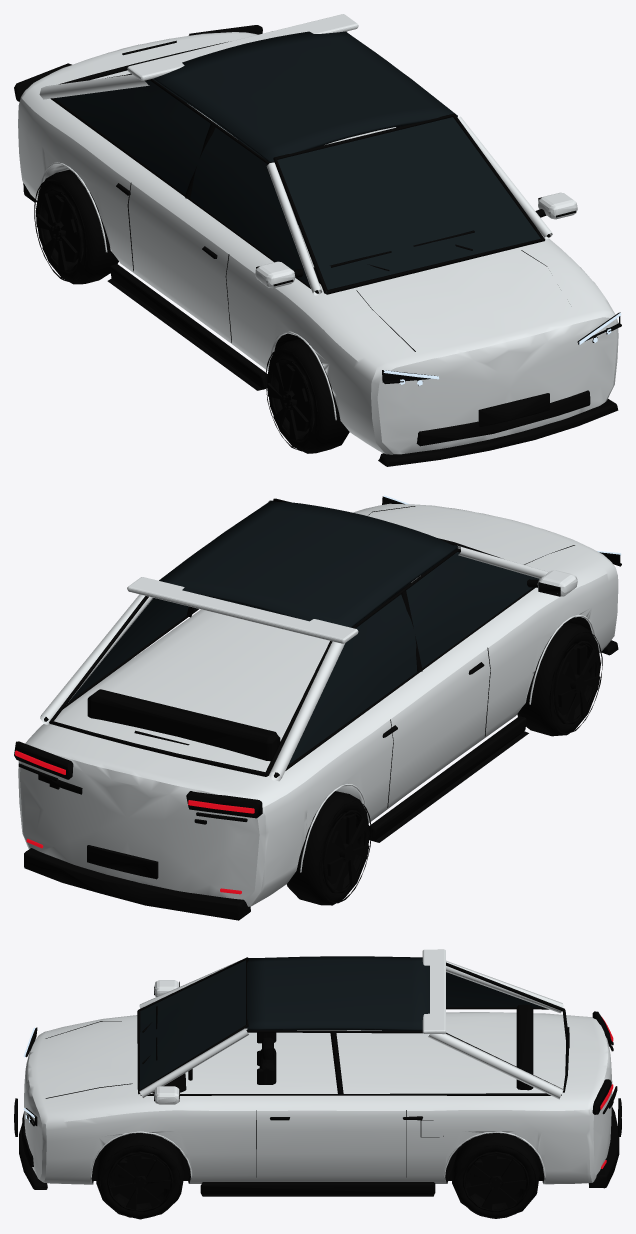
File: model-y-mid.glb
3 views of the same model, one above another, from view 1: azimuth 30°, elevation 25°; view 2: azimuth 150°, elevation 25°; view 3: azimuth 270°, elevation 25° (orthographic). The views are drawn at different scales.
Parts seen in each view (by area): view 1: chassis.001__Automotive clearcoat, chassis.001__Solar glass, chassis.001__Vehicle detail atlas, wheel_RL.001__Vehicle detail atlas, wheel_FL.001__Vehicle detail atlas; view 2: chassis.001__Automotive clearcoat, chassis.001__Solar glass, chassis.001__Vehicle detail atlas, wheel_RL.001__Vehicle detail atlas, wheel_FL.001__Vehicle detail atlas, chassis.001__Red LED optics; view 3: chassis.001__Automotive clearcoat, chassis.001__Solar glass, chassis.001__Vehicle detail atlas, wheel_FR.001__Vehicle detail atlas, wheel_RR.001__Vehicle detail atlas.
Part boxes in pixels (x1=…): chassis.001__Automotive clearcoat: x1=18, y1=14, x2=618, y2=454; chassis.001__Solar glass: x1=55, y1=31, x2=540, y2=292; chassis.001__Vehicle detail atlas: x1=14, y1=25, x2=620, y2=466; wheel_RL.001__Vehicle detail atlas: x1=34, y1=169, x2=118, y2=284; wheel_FL.001__Vehicle detail atlas: x1=265, y1=338, x2=349, y2=453; chassis.001__Automotive clearcoat: x1=18, y1=500, x2=618, y2=906; chassis.001__Solar glass: x1=69, y1=500, x2=539, y2=764; chassis.001__Vehicle detail atlas: x1=14, y1=496, x2=620, y2=920; wheel_RL.001__Vehicle detail atlas: x1=286, y1=791, x2=371, y2=905; wheel_FL.001__Vehicle detail atlas: x1=517, y1=622, x2=602, y2=736; chassis.001__Red LED optics: x1=15, y1=750, x2=254, y2=894; chassis.001__Automotive clearcoat: x1=24, y1=949, x2=612, y2=1184; chassis.001__Solar glass: x1=139, y1=956, x2=542, y2=1089; chassis.001__Vehicle detail atlas: x1=14, y1=957, x2=621, y2=1196; wheel_FR.001__Vehicle detail atlas: x1=96, y1=1133, x2=184, y2=1219; wheel_RR.001__Vehicle detail atlas: x1=451, y1=1133, x2=540, y2=1218.
Size of the model in its own units: 2.24 by 1.64 by 4.94.
8 materials, 6 textured.
